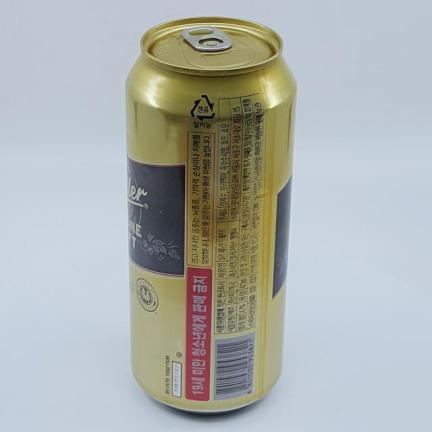can: (127, 17, 296, 412)
